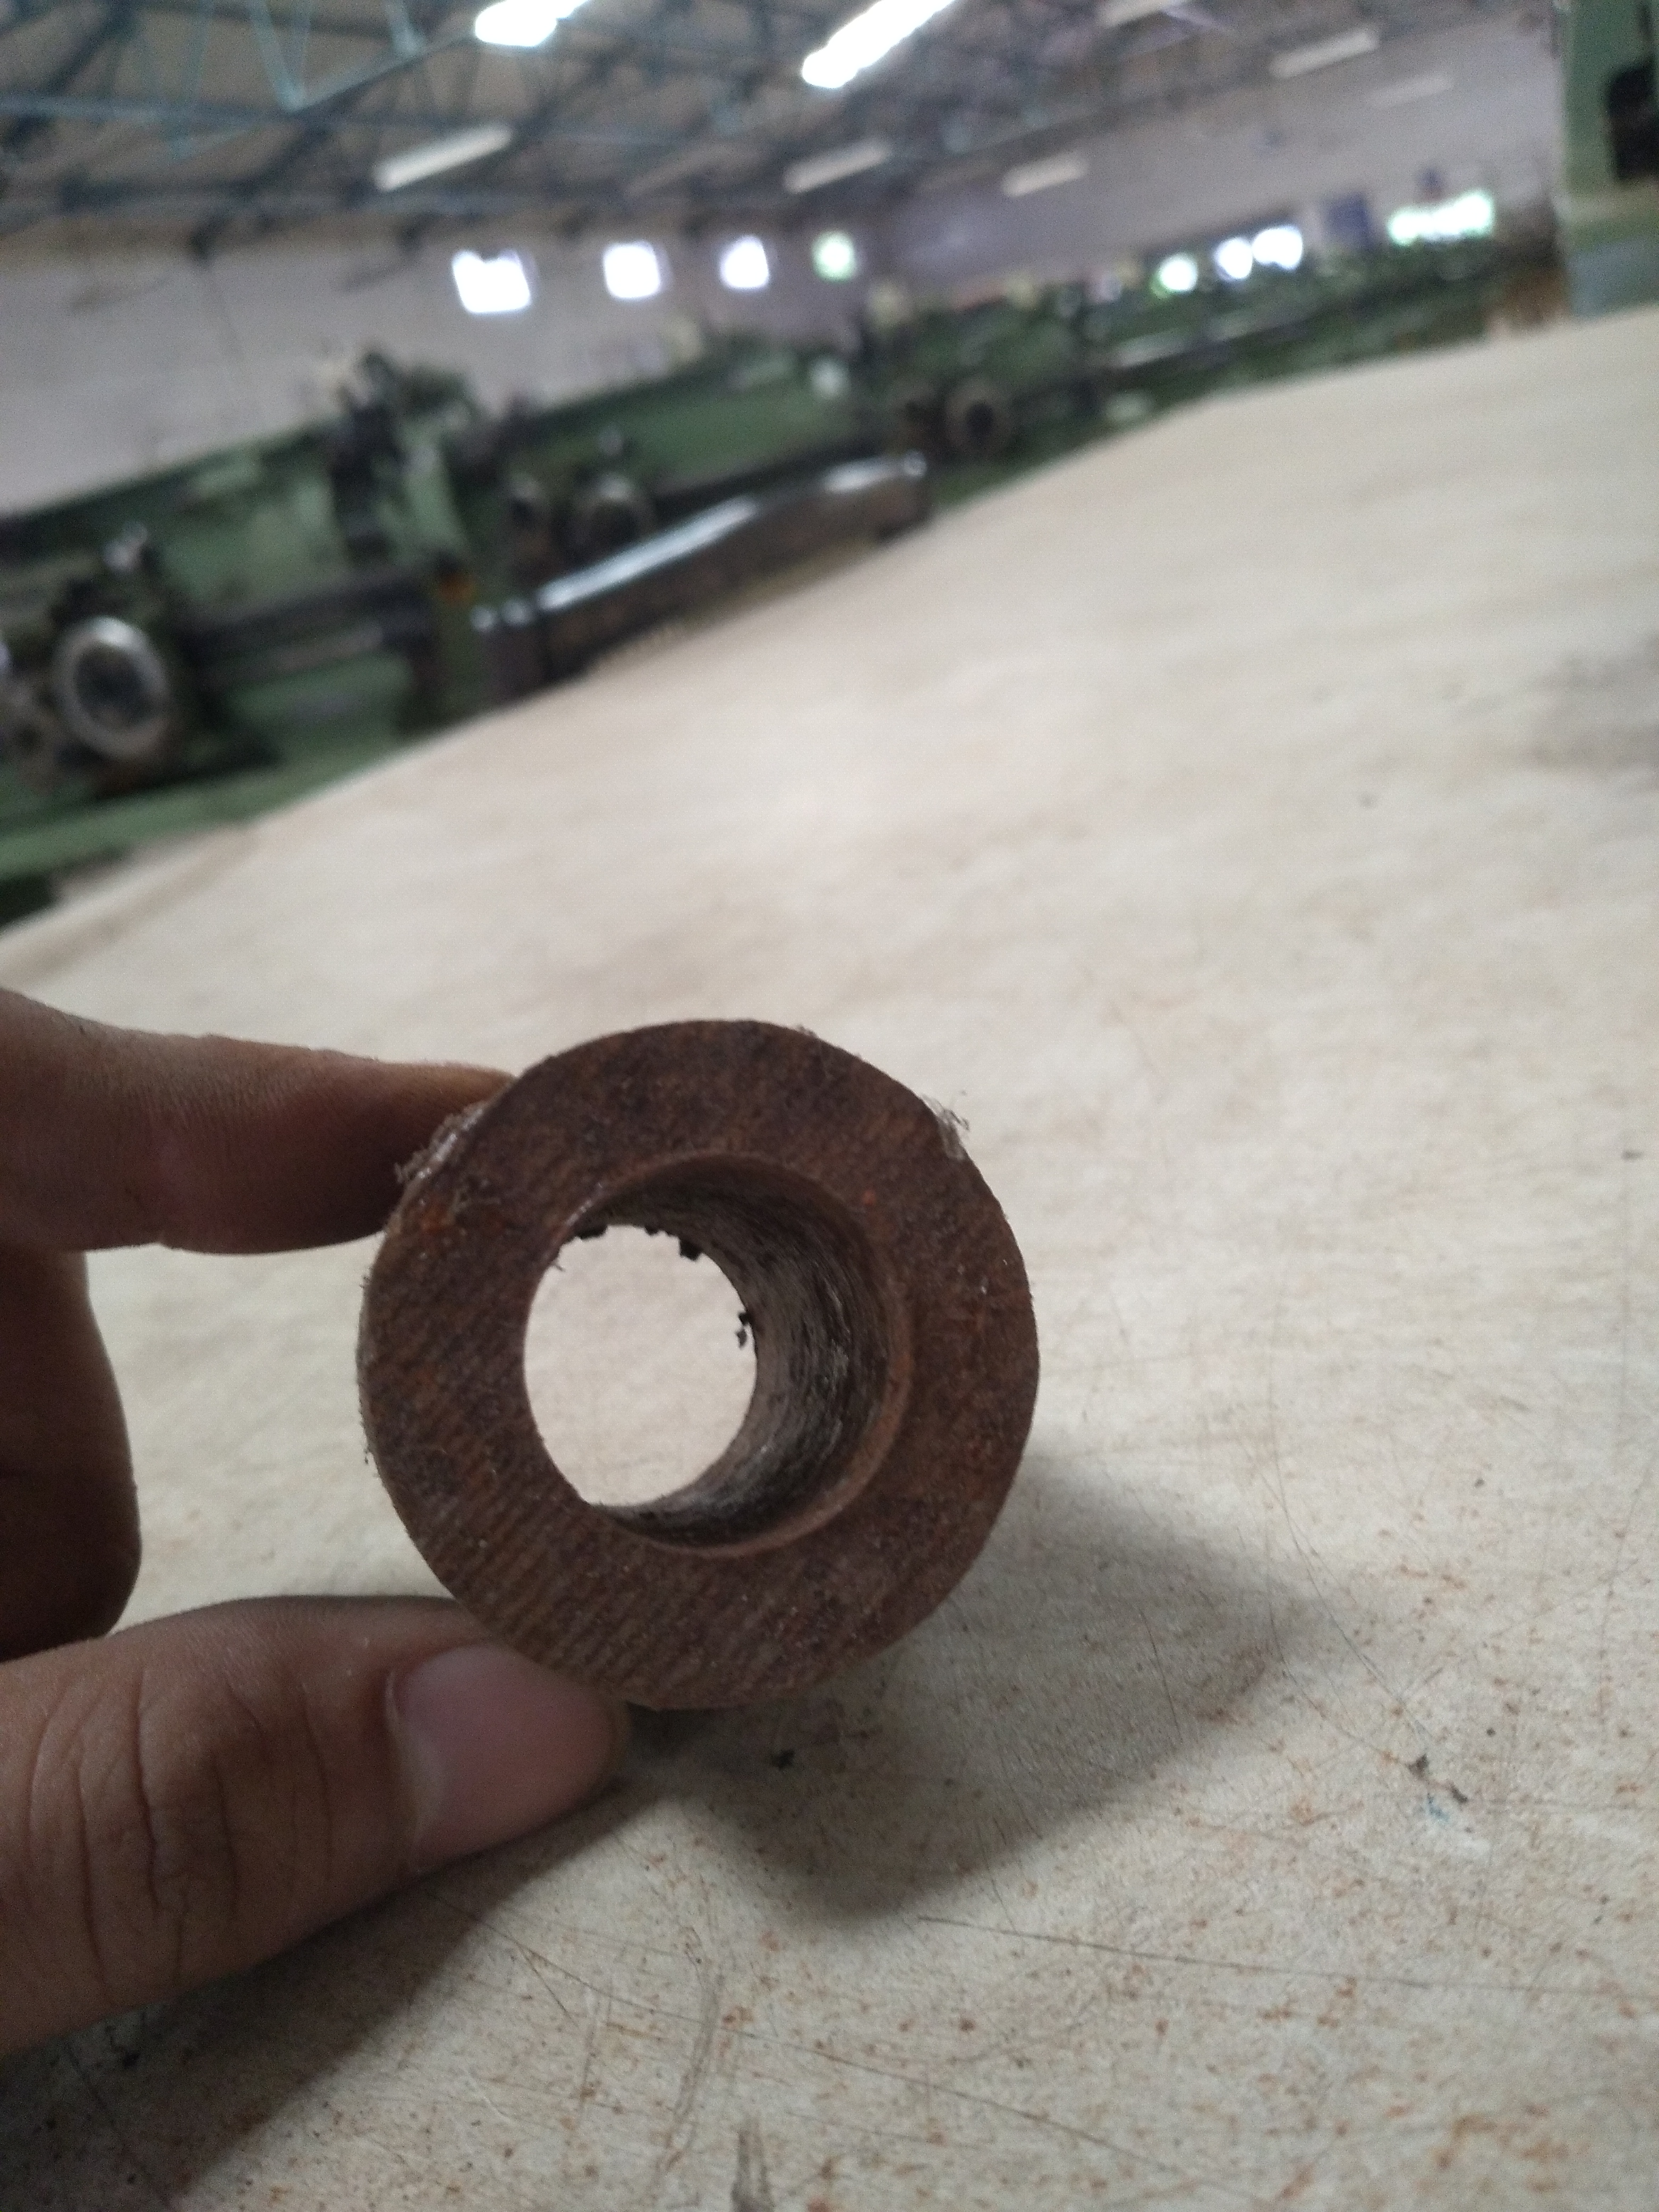No thread: (528, 1137, 927, 1590)
